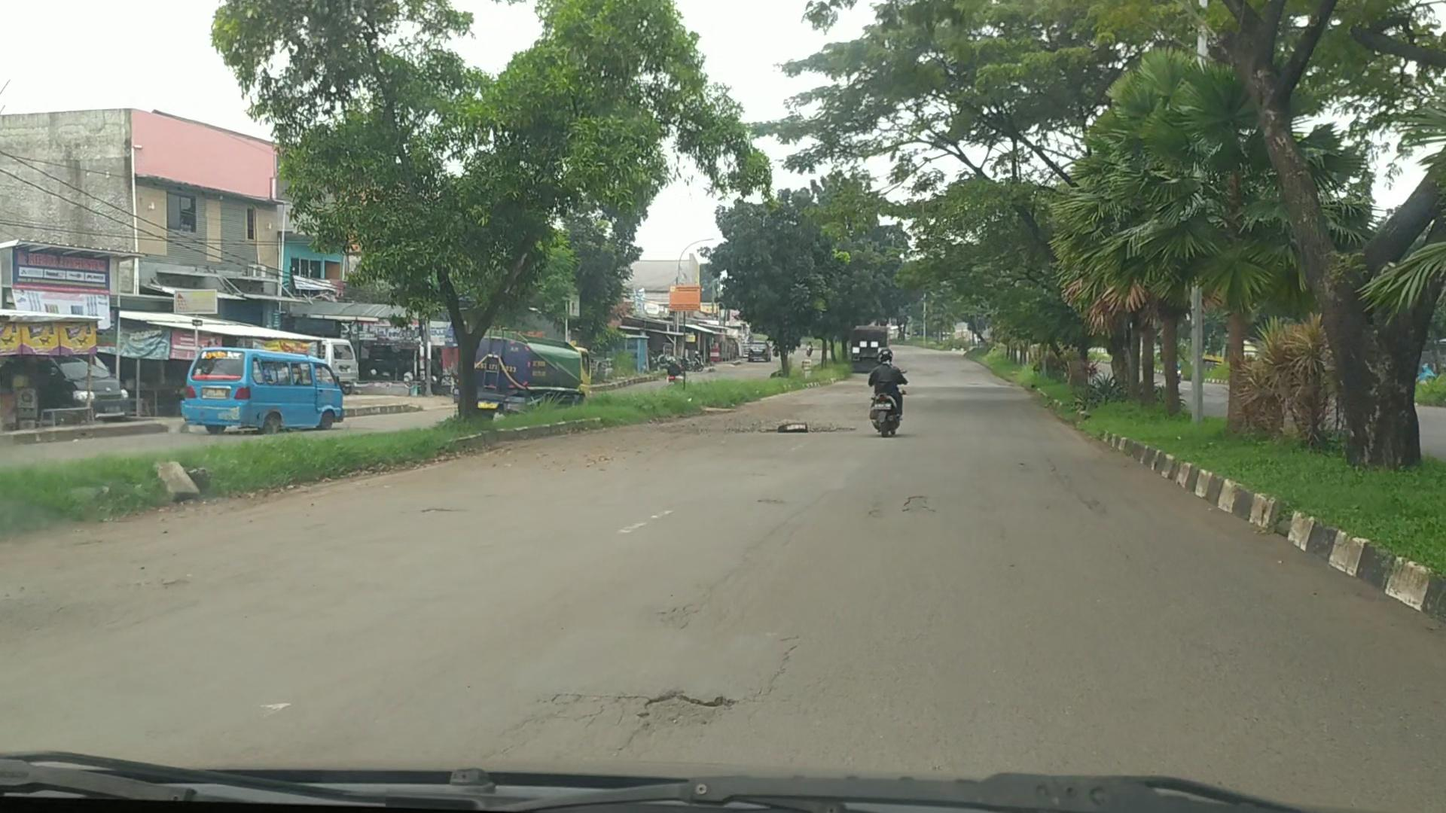pothole: (636, 689, 738, 736), (901, 494, 936, 514)
